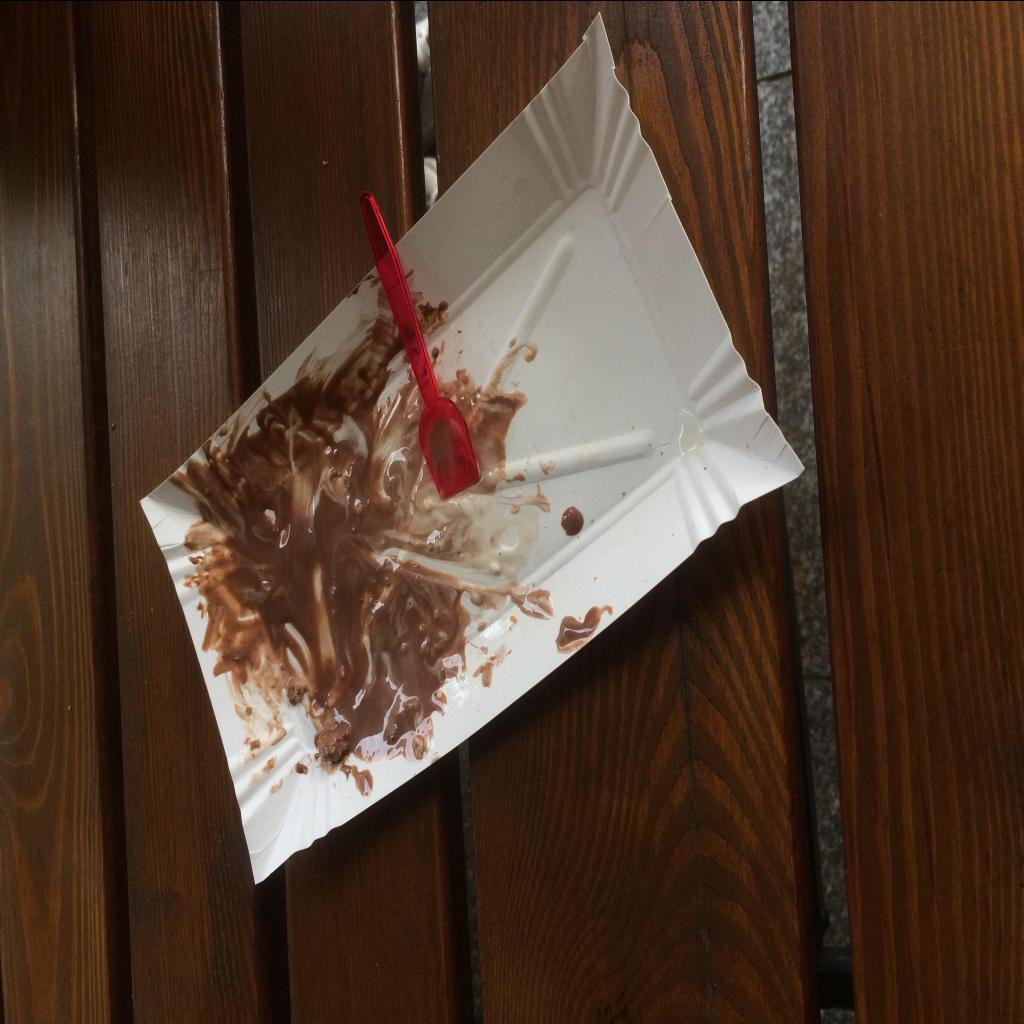Meal carton: (140, 10, 804, 884)
Plastic utensils: (359, 190, 479, 501)
